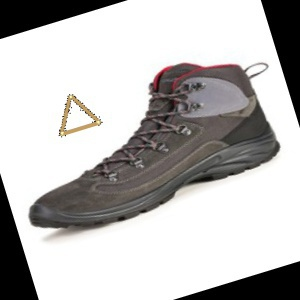triangle: (56, 93, 104, 138)
